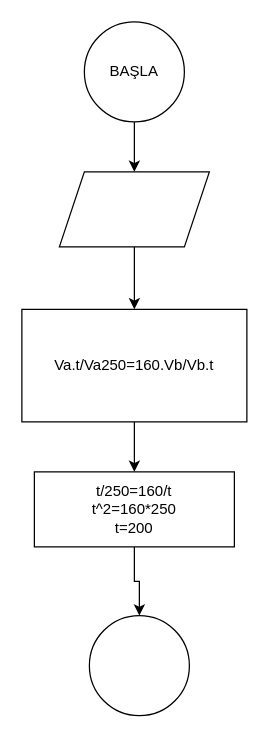
Image size: 269x738. Some labels were removed from this diagram. Each missing label, with the centre of its shape:
DUR: pixel 138 665
x=v.t ,A ve B kenti,250 dk,160 dk: pixel 133 209
